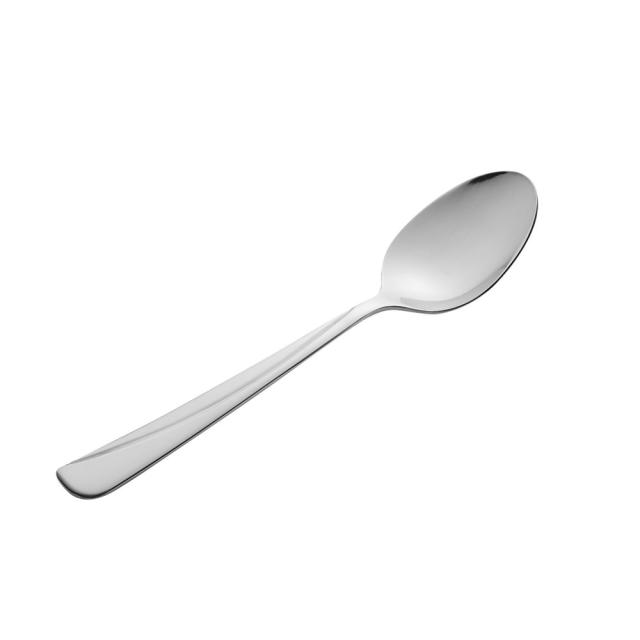spoon: (45, 165, 549, 505)
